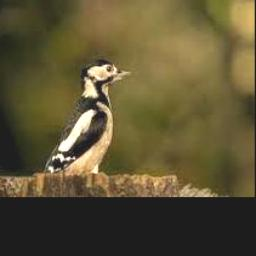Woodpecker: (44, 60, 133, 174)
